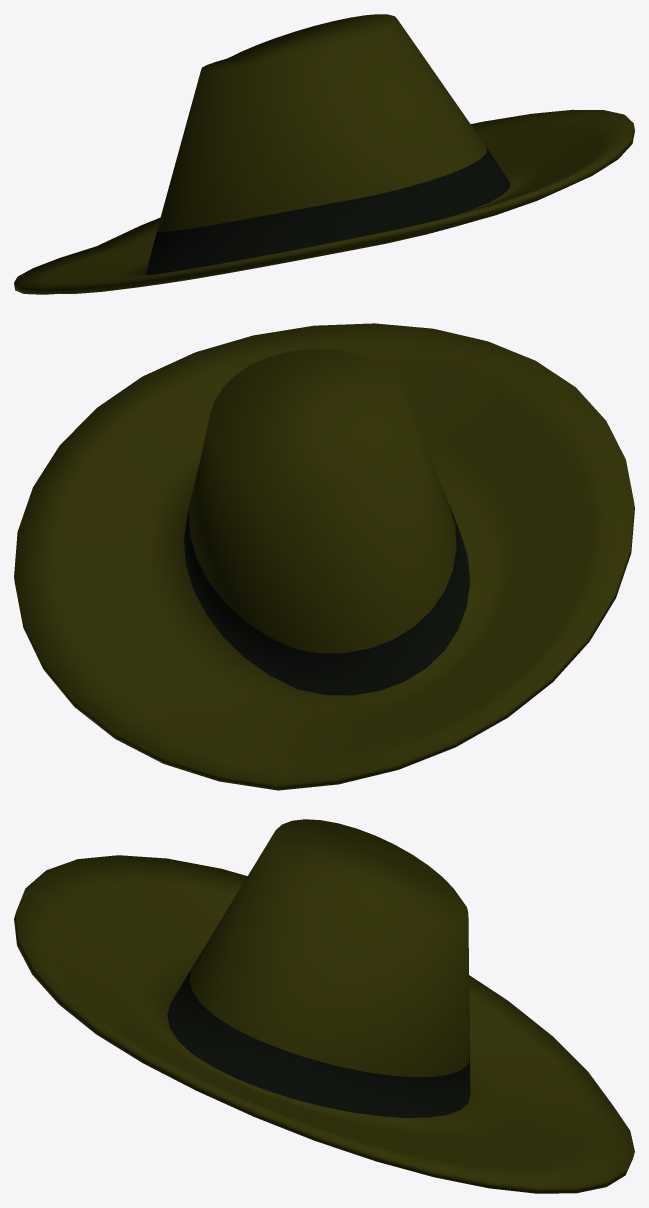
Rendered from hat2.fbx.
The picture shows the model from 3 angles, top to bottom: view 1: azimuth 30°, elevation 25°; view 2: azimuth 150°, elevation 25°; view 3: azimuth 270°, elevation 25°; orthographic projection. The views are drawn at different scales.
Visible parts, largest first — view 1: Cylinder.011; view 2: Cylinder.011; view 3: Cylinder.011.
Part boxes in pixels (box(x1,y1,x2,y2)): Cylinder.011: box(14, 14, 634, 294); Cylinder.011: box(14, 323, 634, 790); Cylinder.011: box(14, 819, 634, 1193).
Size of the model in its own units: 0.625 by 0.5877 by 0.3315.
